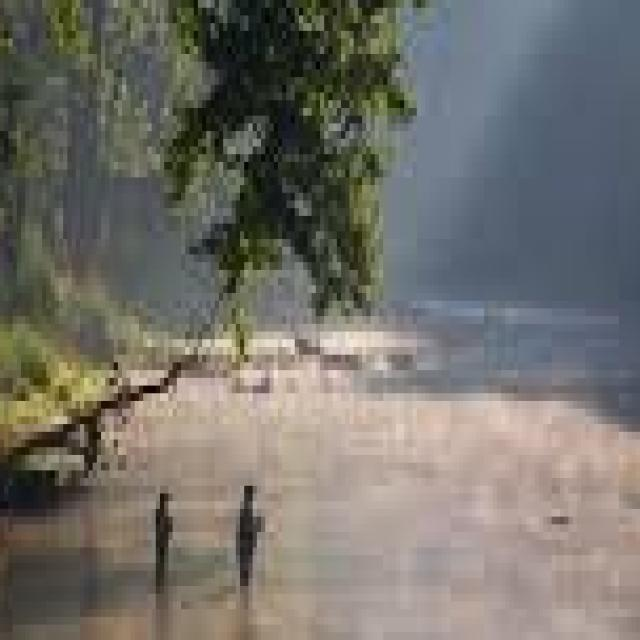-: (224, 340, 636, 640)
